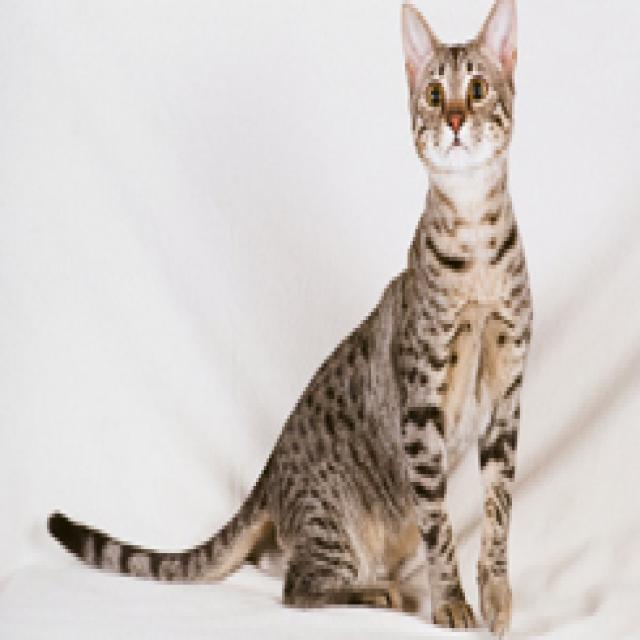Egyptian Mau: (44, 0, 536, 640)
